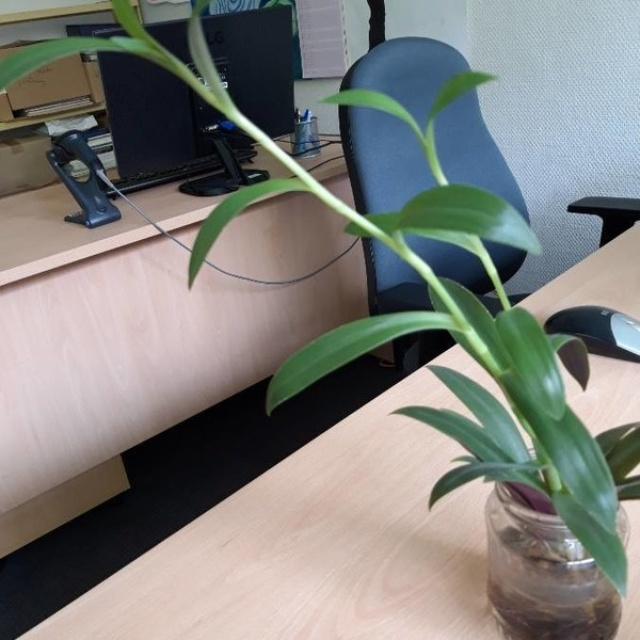obstacle: (115, 41, 617, 634)
